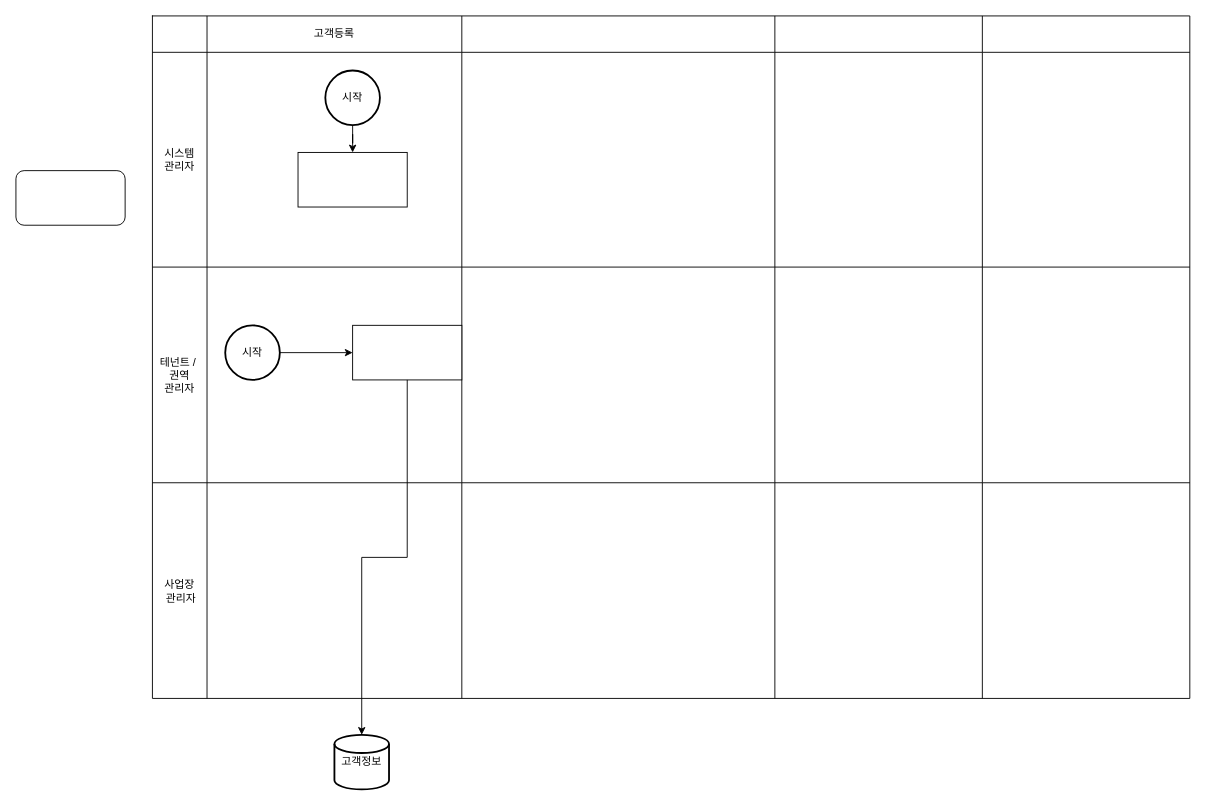
Image size: 1206x806. Some labels were removed from this diagram. The shapes that lost their labels are listed below. From the top down, each one's centre as x and y in pixels, then its label:
the point at 70,197: 고객 기본정보
the point at 407,352: 기업 회원가입
